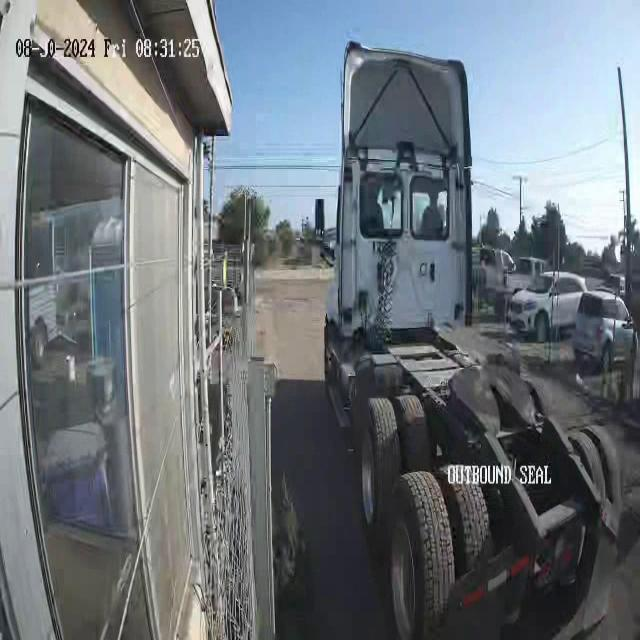BOBTAIL: (312, 39, 628, 637)
